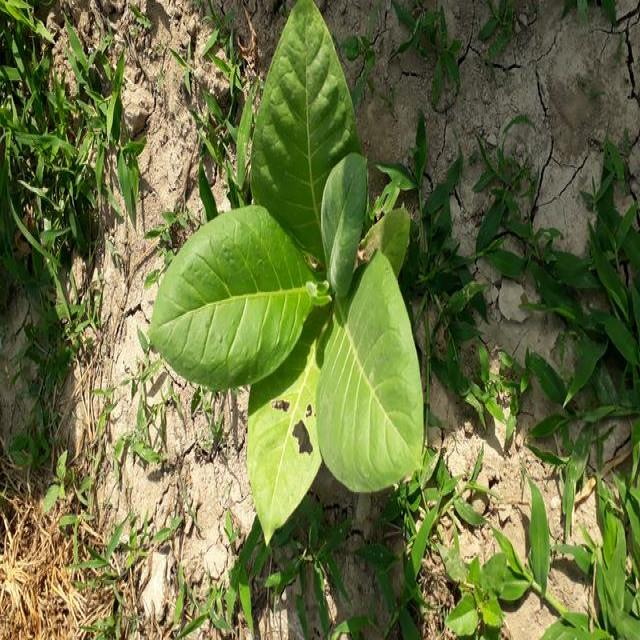crop: (166, 10, 428, 524)
